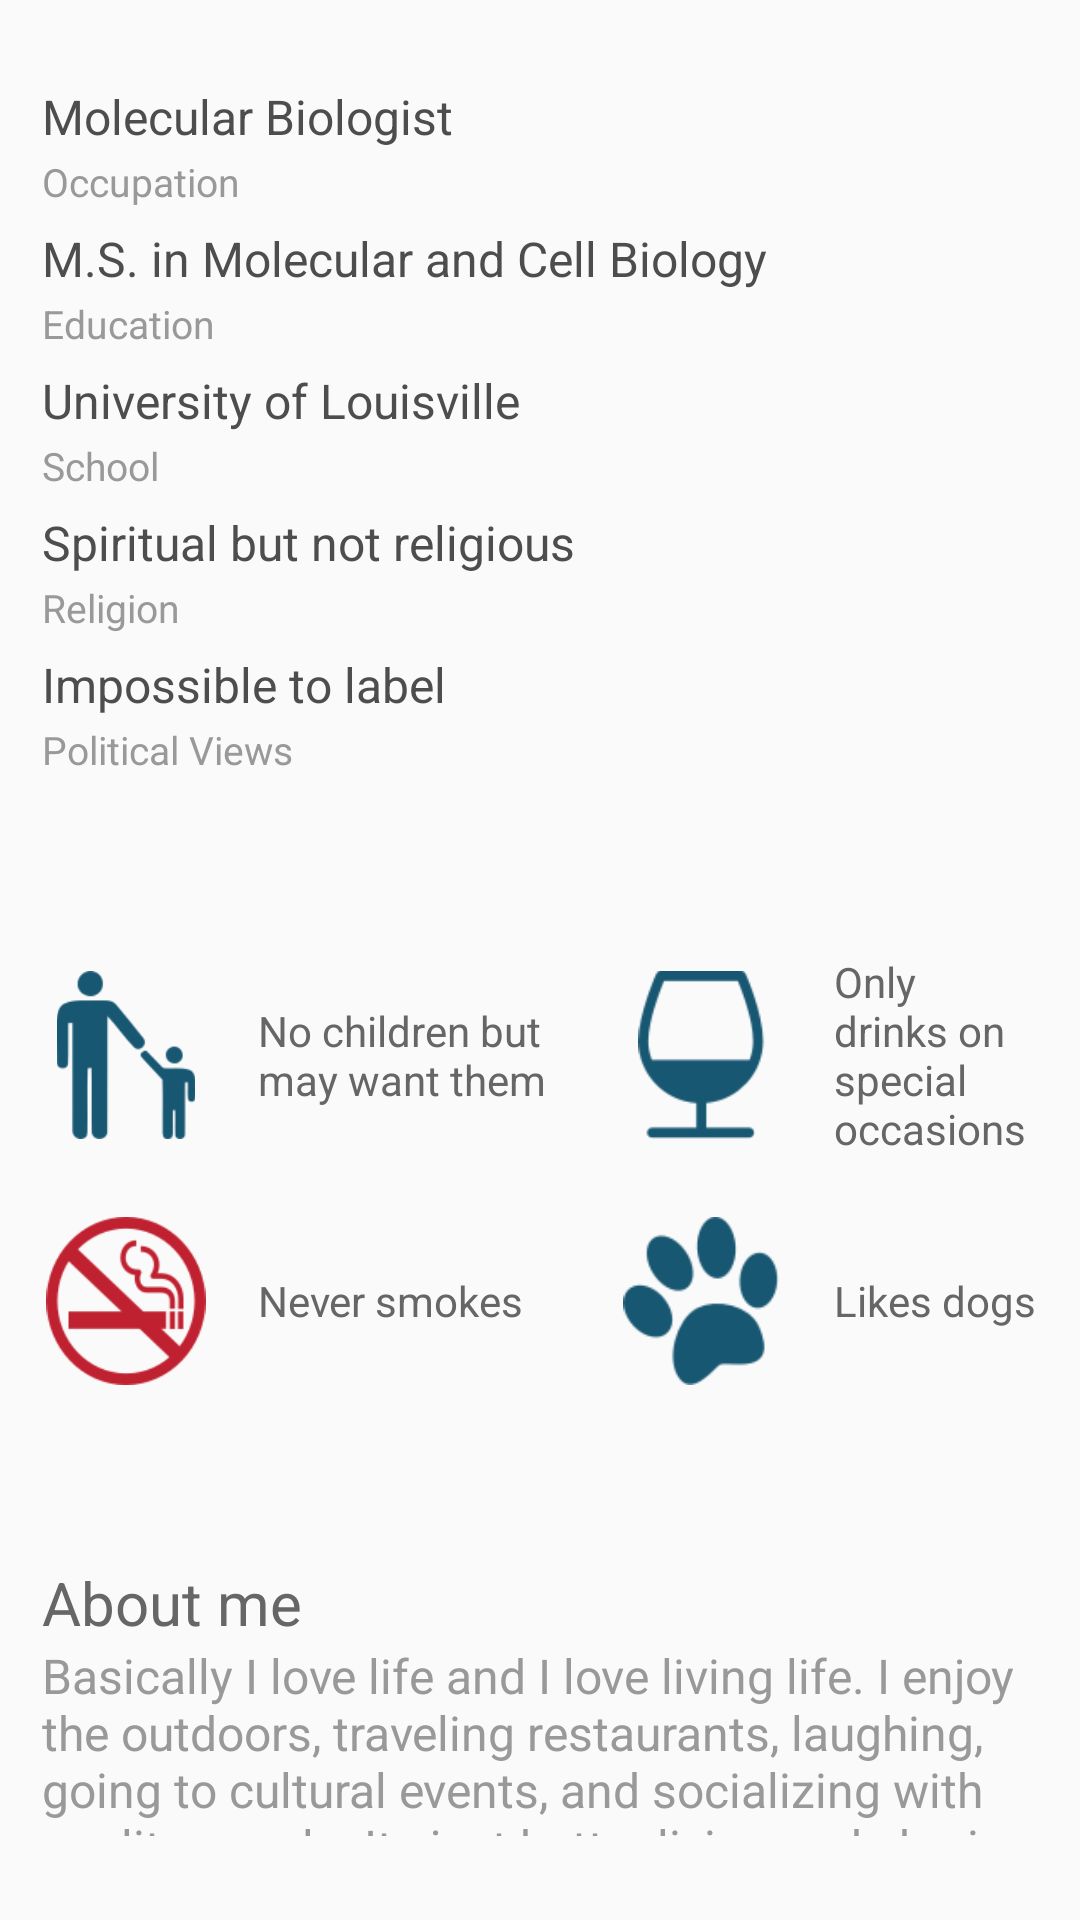

Icon click points for this 1080x1920 phone screenshot, format point (x, y):
family: point (126, 1055)
pets: point (700, 1301)
